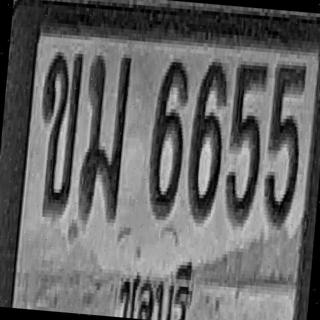A02: (33, 47, 84, 215)
A33: (77, 51, 132, 220)
N05: (261, 60, 307, 228), (222, 58, 268, 222)
N06: (185, 57, 229, 221), (146, 57, 190, 218)
